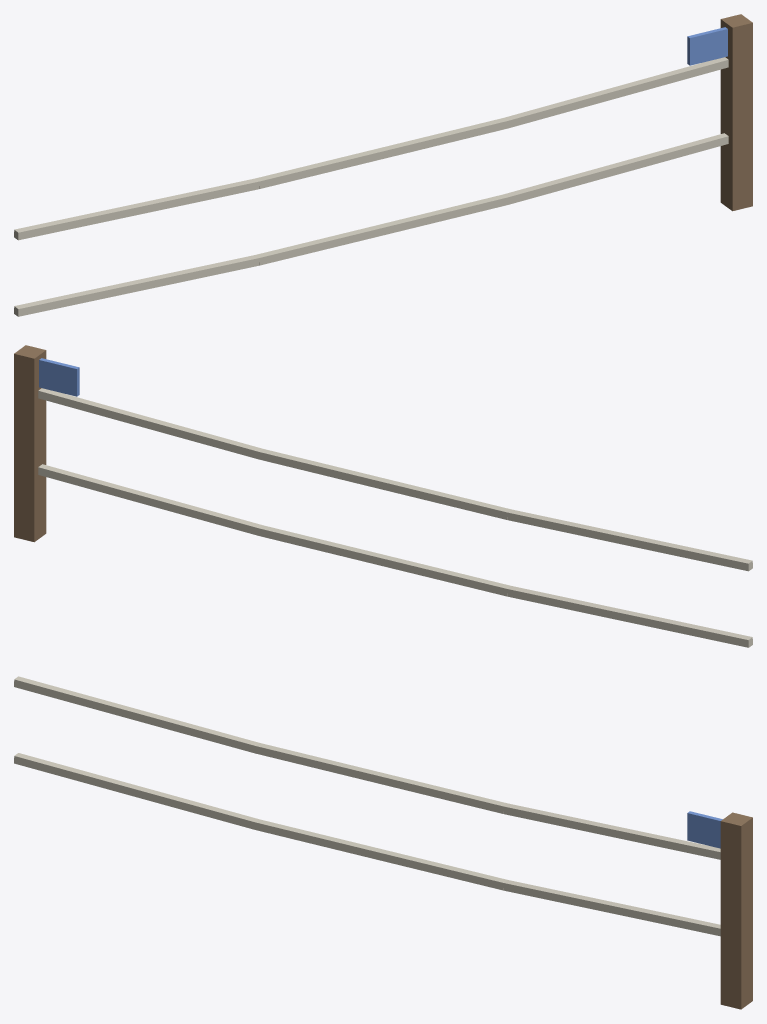
File: site_edge.glb
3 renders of one model, top to bottom at view 1: azimuth 30°, elevation 25°; view 2: azimuth 150°, elevation 25°; view 3: azimuth 330°, elevation 25°, orthographic.
Parts seen in each view (by area): view 1: Site.Cord, Site.Post, Site.Flag; view 2: Site.Cord, Site.Post, Site.Flag; view 3: Site.Cord, Site.Post, Site.Flag.
Part boxes in pixels (x1,y1,x2,y2): Site.Cord: (14,57,728,316); Site.Post: (720,14,752,211); Site.Flag: (687,27,727,65); Site.Cord: (38,388,752,647); Site.Post: (14,345,46,542); Site.Flag: (39,358,79,396); Site.Cord: (14,676,720,936); Site.Post: (720,812,752,1009); Site.Flag: (687,811,722,848).
Size of the model in its own units: 5 by 1.2 by 0.14.
